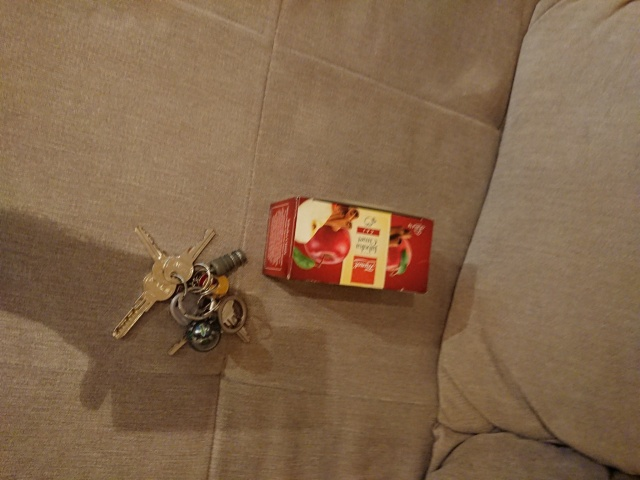Franck Apple Cinnamon Tea 60g: (258, 193, 437, 298)
